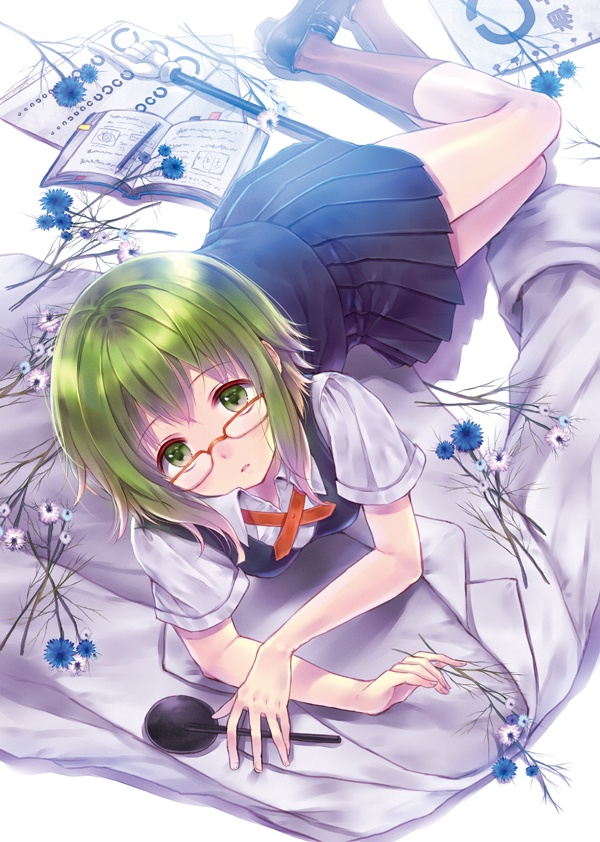纸片人正脸: (49, 250, 313, 507)
